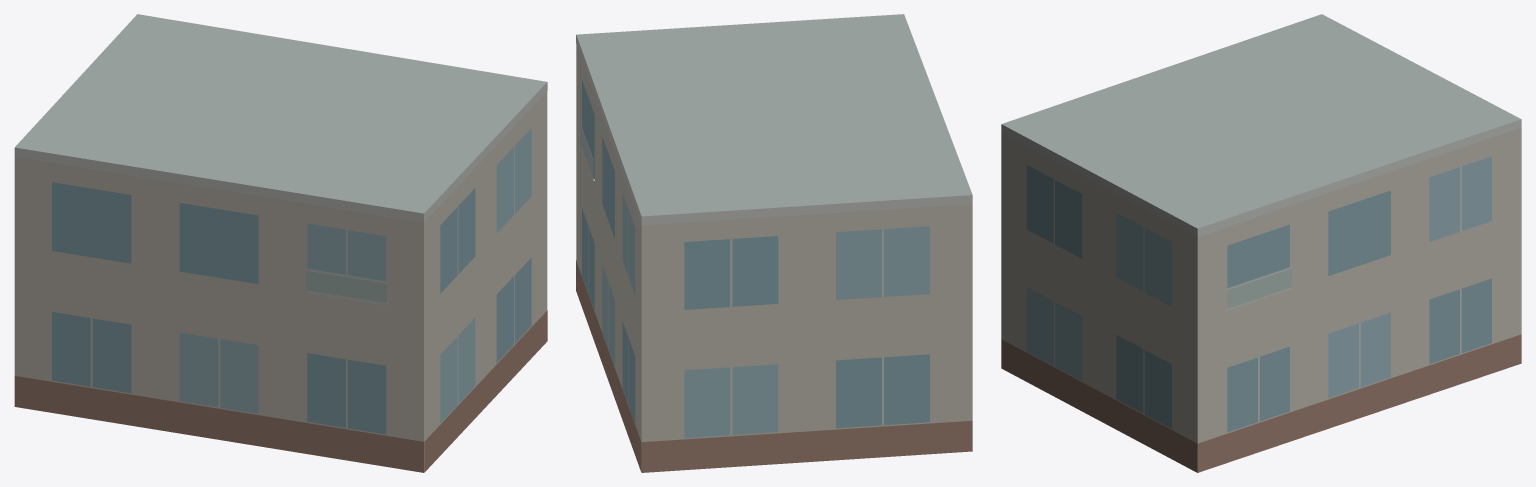
File: survey-upis-32730213.glb
3 views of the same model, side by side, from view 1: azimuth 30°, elevation 25°; view 2: azimuth 150°, elevation 25°; view 3: azimuth 270°, elevation 25° (orthographic). The views are drawn at different scales.
Visible parts, largest first — view 1: survey-upis-32730213.tmp; view 2: survey-upis-32730213.tmp; view 3: survey-upis-32730213.tmp.
Part boxes in pixels (x1=…): survey-upis-32730213.tmp: x1=14, y1=14, x2=547, y2=472; survey-upis-32730213.tmp: x1=576, y1=14, x2=972, y2=472; survey-upis-32730213.tmp: x1=1001, y1=14, x2=1521, y2=472.
Size of the model in its own units: 13.2 by 7 by 13.52.
